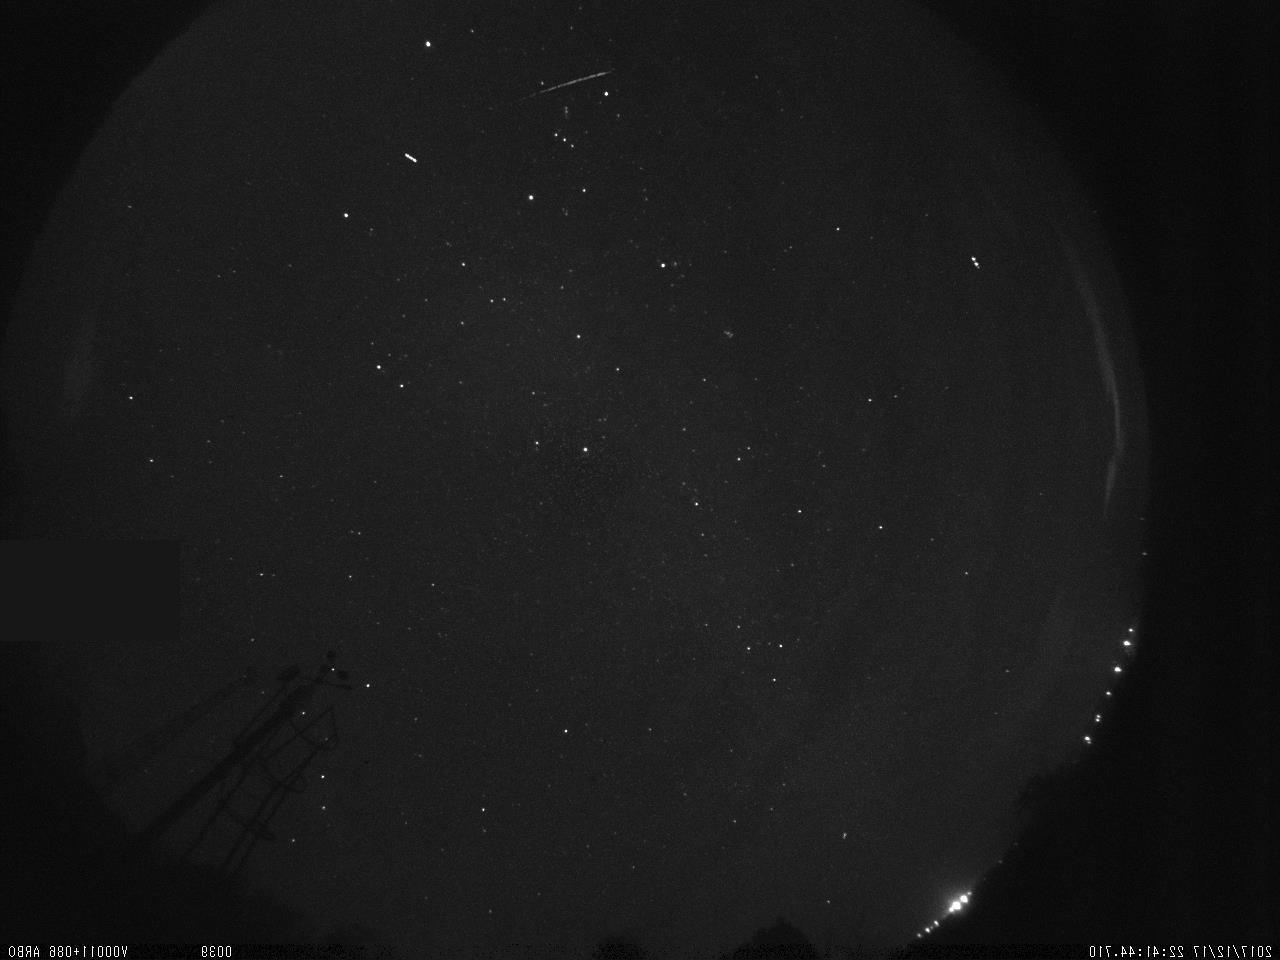meteor: (487, 56, 624, 114)
